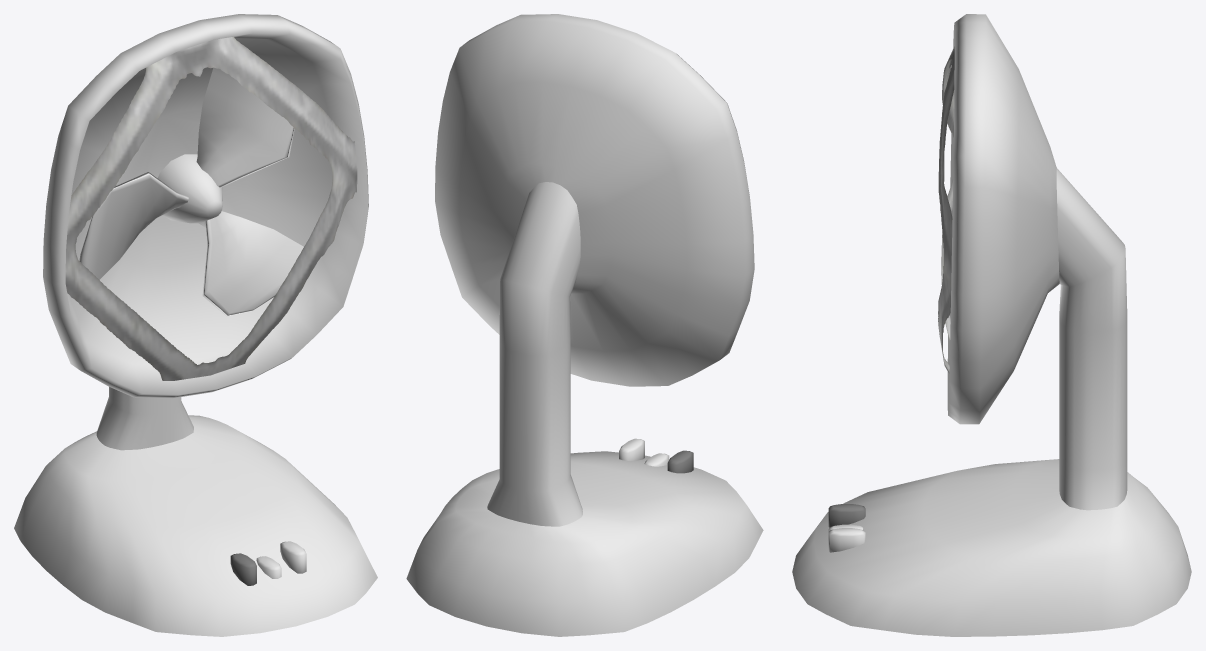
The model's file is Fan.fbx.
The picture shows the model from 3 angles, left to right: view 1: azimuth 30°, elevation 25°; view 2: azimuth 150°, elevation 25°; view 3: azimuth 270°, elevation 25°; orthographic projection.
Visible parts, largest first — view 1: Body.001, Body, Grill, Fins, Body.002, Fans, Button.002, Button.001; view 2: Body.001, Body, Body.002, Button.002; view 3: Body, Body.001, Body.002, Grill, Button.001, Button.002.
Part boxes in pixels (bbox=[...]): Body.001: bbox=[43, 14, 368, 398]; Body: bbox=[14, 415, 377, 636]; Grill: bbox=[65, 36, 357, 380]; Fins: bbox=[79, 67, 303, 316]; Body.002: bbox=[96, 387, 193, 450]; Fans: bbox=[157, 154, 222, 223]; Button.002: bbox=[230, 553, 256, 585]; Button.001: bbox=[280, 541, 306, 573]; Body.001: bbox=[435, 14, 754, 386]; Body: bbox=[406, 451, 763, 636]; Body.002: bbox=[487, 182, 582, 526]; Button.002: bbox=[667, 450, 693, 473]; Body: bbox=[792, 459, 1191, 636]; Body.001: bbox=[947, 14, 1059, 424]; Body.002: bbox=[1056, 168, 1127, 510]; Grill: bbox=[938, 46, 954, 373]; Button.001: bbox=[828, 528, 865, 552]; Button.002: bbox=[828, 504, 865, 527].
Bounding box in the file's own units: 510 × 825 × 560.
